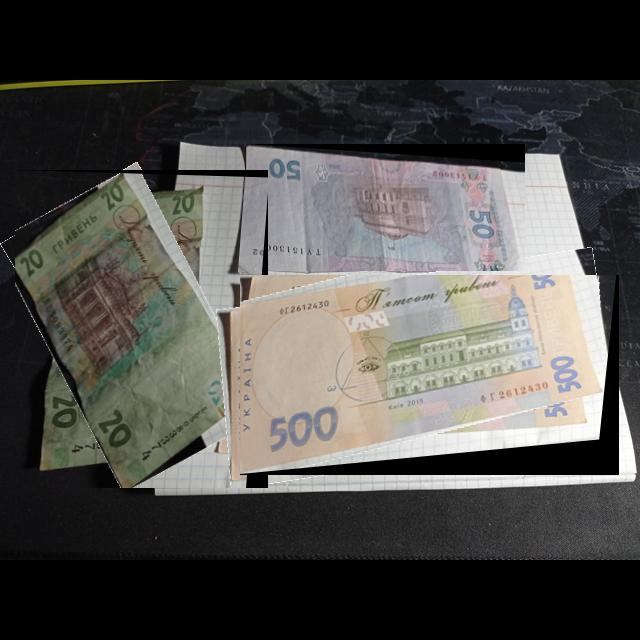20uah: (15, 173, 257, 489)
500uah: (240, 275, 608, 475)
50uah: (246, 145, 523, 272)
